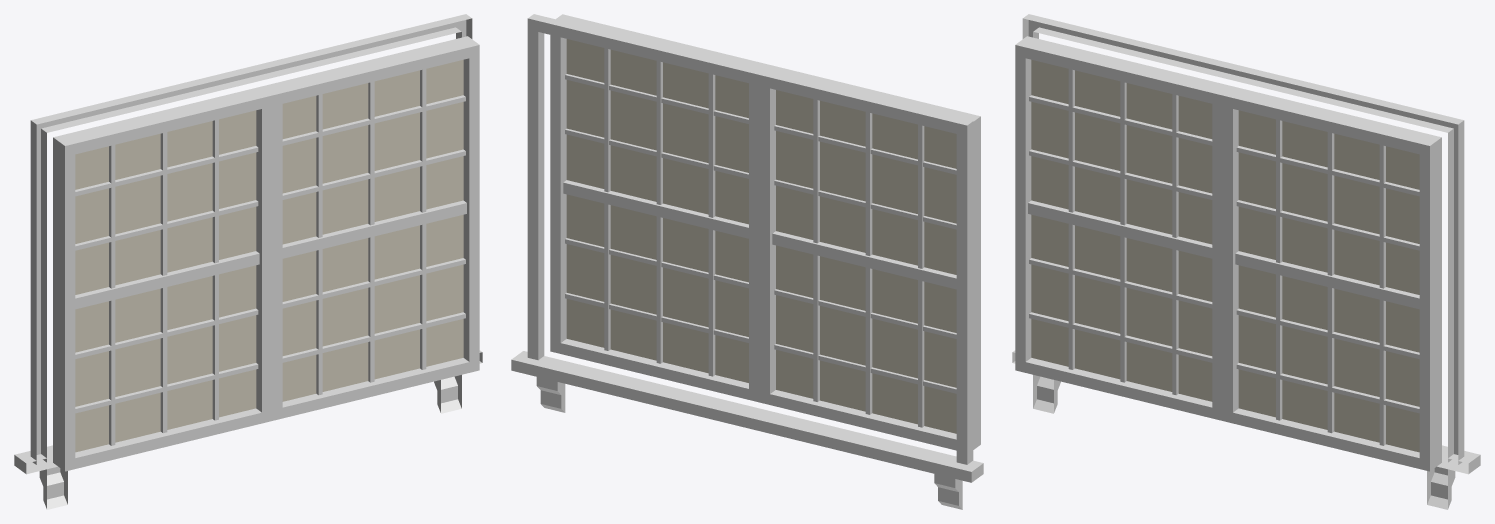
Rendered from Window_big.fbx.
3 views of the same model, side by side, from view 1: azimuth 30°, elevation 25°; view 2: azimuth 150°, elevation 25°; view 3: azimuth 330°, elevation 25° (orthographic).
Parts seen in each view (by area): view 1: mesh_window_big; view 2: mesh_window_big; view 3: mesh_window_big.
Part boxes in pixels (x1,y1,x2,y2): mesh_window_big: (14,14,482,509); mesh_window_big: (511,14,983,509); mesh_window_big: (1012,14,1480,509).
Bounding box in the file's own units: 220 × 179 × 25.
